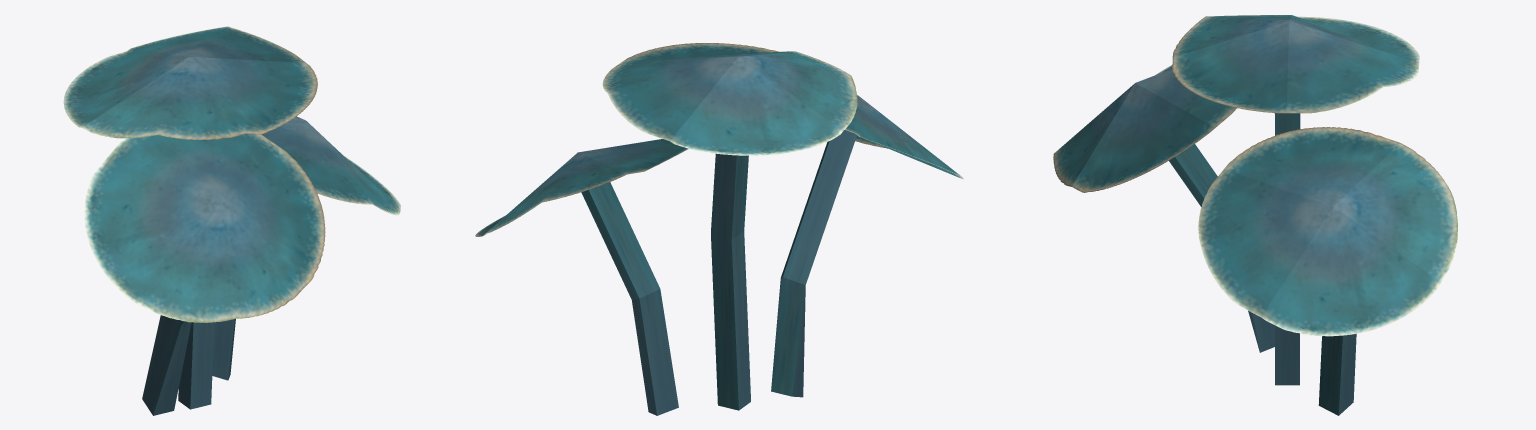
Rendered from mashroom1.fbx.
The picture shows the model from 3 angles, left to right: view 1: azimuth 30°, elevation 25°; view 2: azimuth 150°, elevation 25°; view 3: azimuth 270°, elevation 25°; orthographic projection. The views are drawn at different scales.
Visible parts, largest first — view 1: Cube.001; view 2: Cube.001; view 3: Cube.001.
Boxes of the visible parts, x1=… form: Cube.001: x1=63, y1=26, x2=400, y2=415; Cube.001: x1=475, y1=43, x2=963, y2=415; Cube.001: x1=1053, y1=15, x2=1457, y2=415.
Size of the model in its own units: 41.07 by 30.17 by 38.86.
